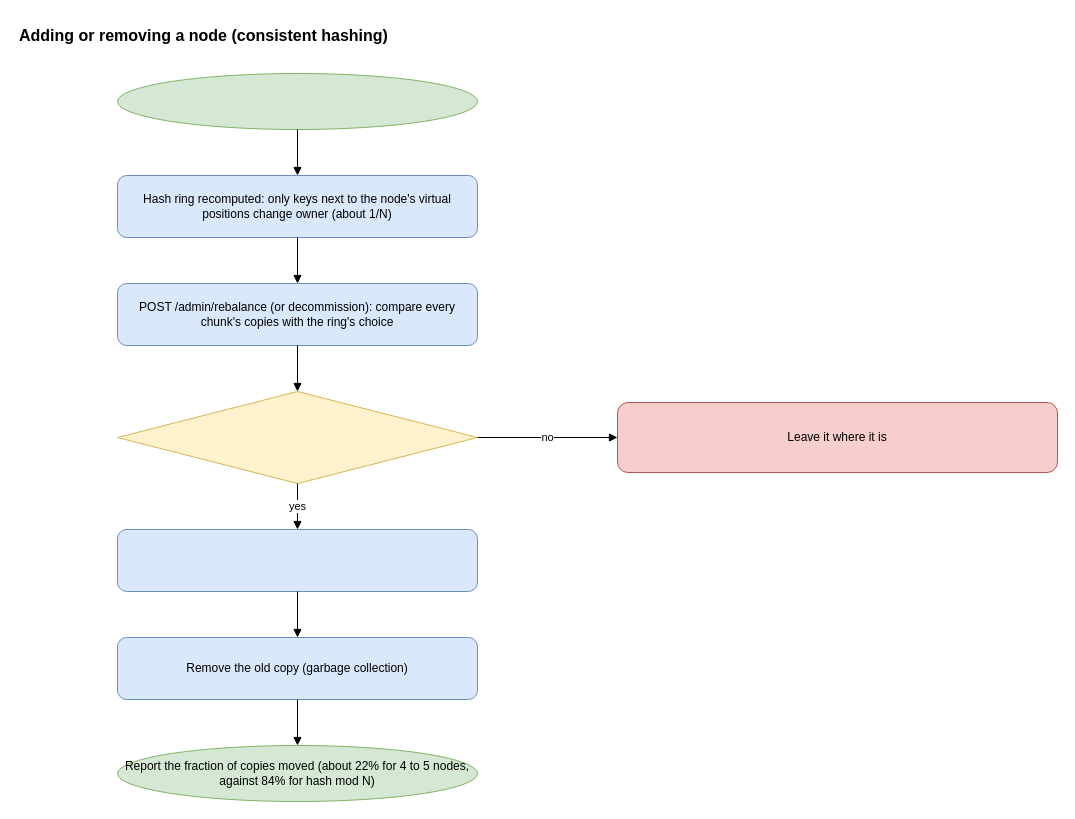
Image size: 1075x819. Some labels were removed from this diagram. Here are the shapes that lost their labels. From the top down, the centre of each, then its label:
At point (297, 101): "A node joins the ring (first heartbeat) or is decommissioned".
At point (297, 437): "Copy is on the wrong node?".
At point (297, 560): "Copy to the new owner, verify the hash, update Postgres".
